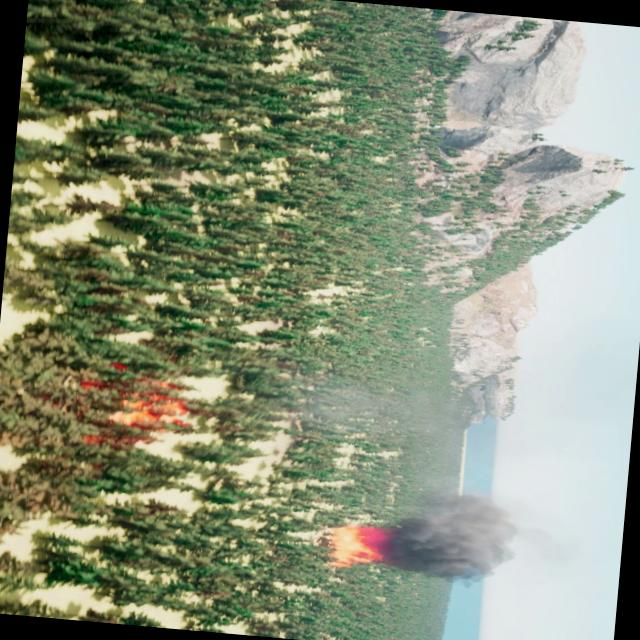fire: (75, 370, 191, 455), (324, 522, 385, 572)
smoke: (384, 482, 520, 590), (288, 374, 426, 443)
